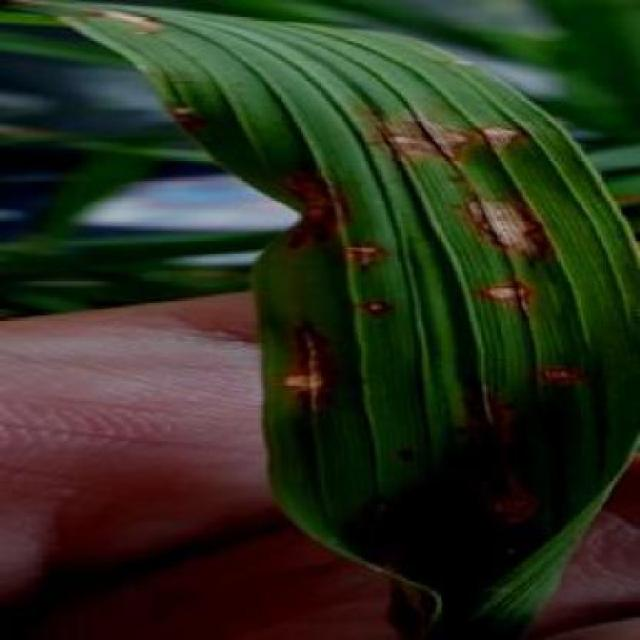Bacterial_Leaf_Blight: (344, 491, 438, 622), (345, 102, 483, 182), (456, 181, 562, 284), (255, 158, 350, 267), (265, 304, 349, 418), (434, 370, 518, 453), (469, 458, 551, 538), (470, 78, 536, 172), (76, 0, 176, 46), (466, 259, 546, 316), (529, 342, 605, 398), (167, 77, 225, 145), (358, 282, 422, 329), (340, 230, 388, 267)
